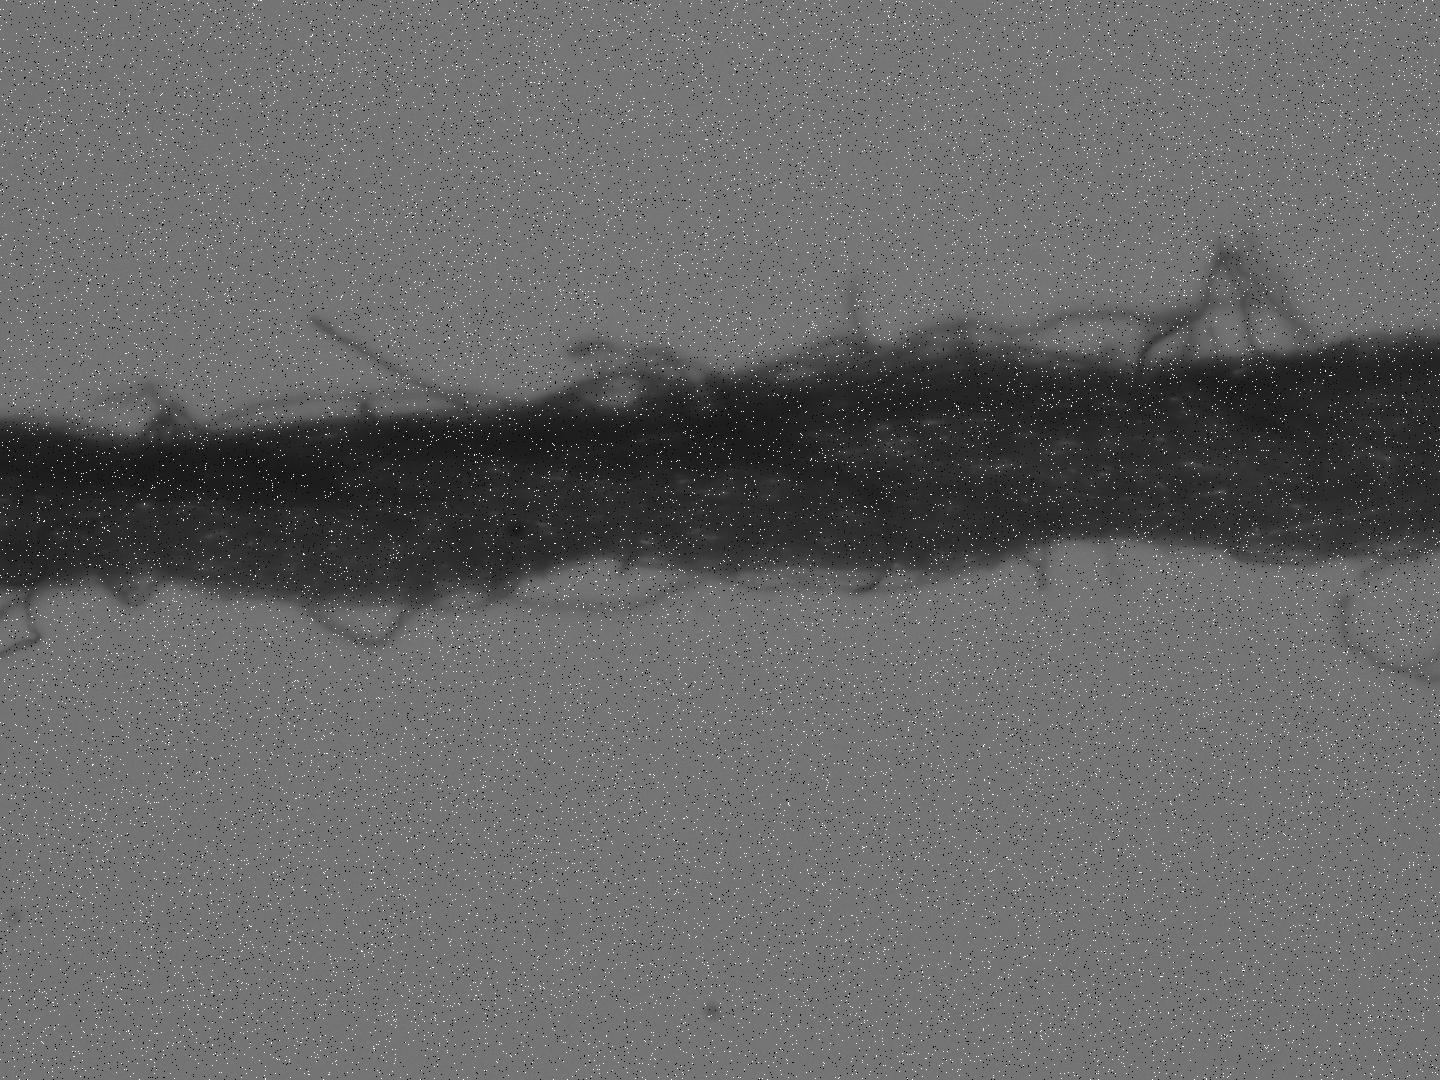loop_fiber: (706, 235, 1339, 404), (295, 557, 713, 652), (129, 385, 522, 445), (714, 535, 1059, 596), (518, 341, 728, 417), (1228, 530, 1440, 580), (99, 572, 168, 613)
protruding_fiber: (306, 312, 484, 417), (1337, 592, 1440, 665), (845, 267, 887, 371), (93, 379, 172, 432), (1, 572, 46, 663)
